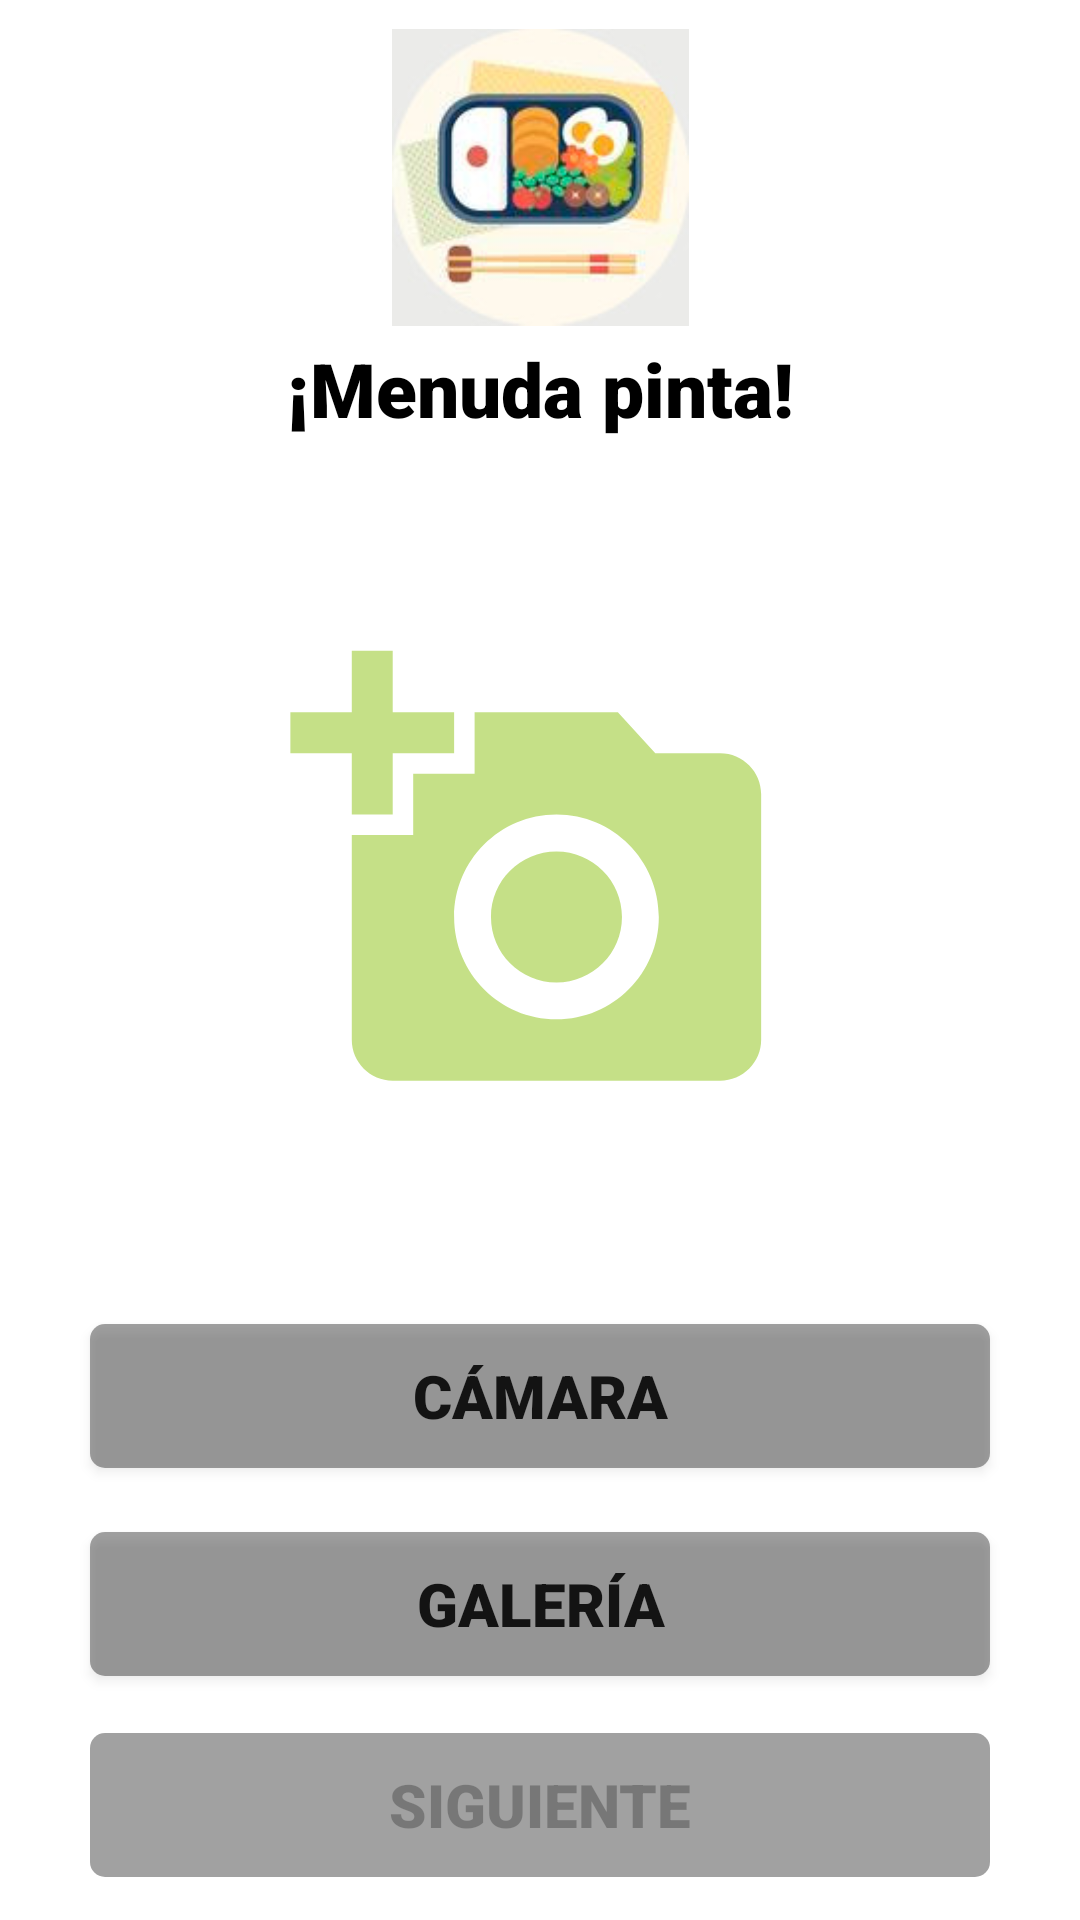

Screen size 1080 × 1920. Icon name, then its box in pixels as (x1, y1, x2, y2):
obentorg: (392, 29, 689, 326)
